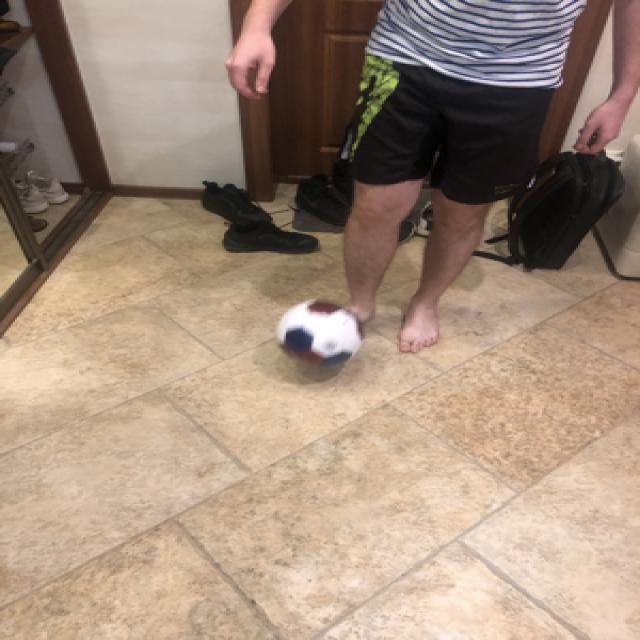soccer_ball: (268, 296, 362, 366)
